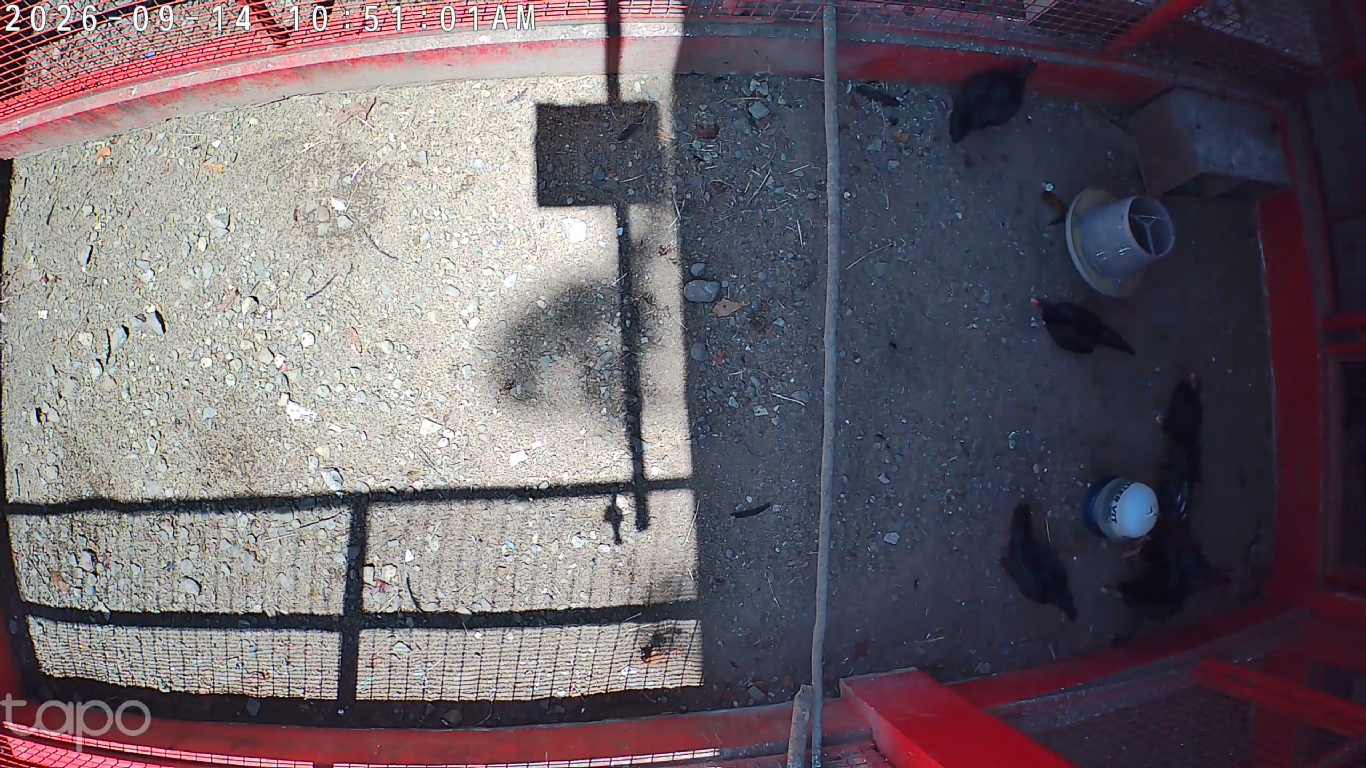Chicken: (996, 505, 1083, 626), (934, 53, 1043, 146), (1027, 289, 1140, 359)
